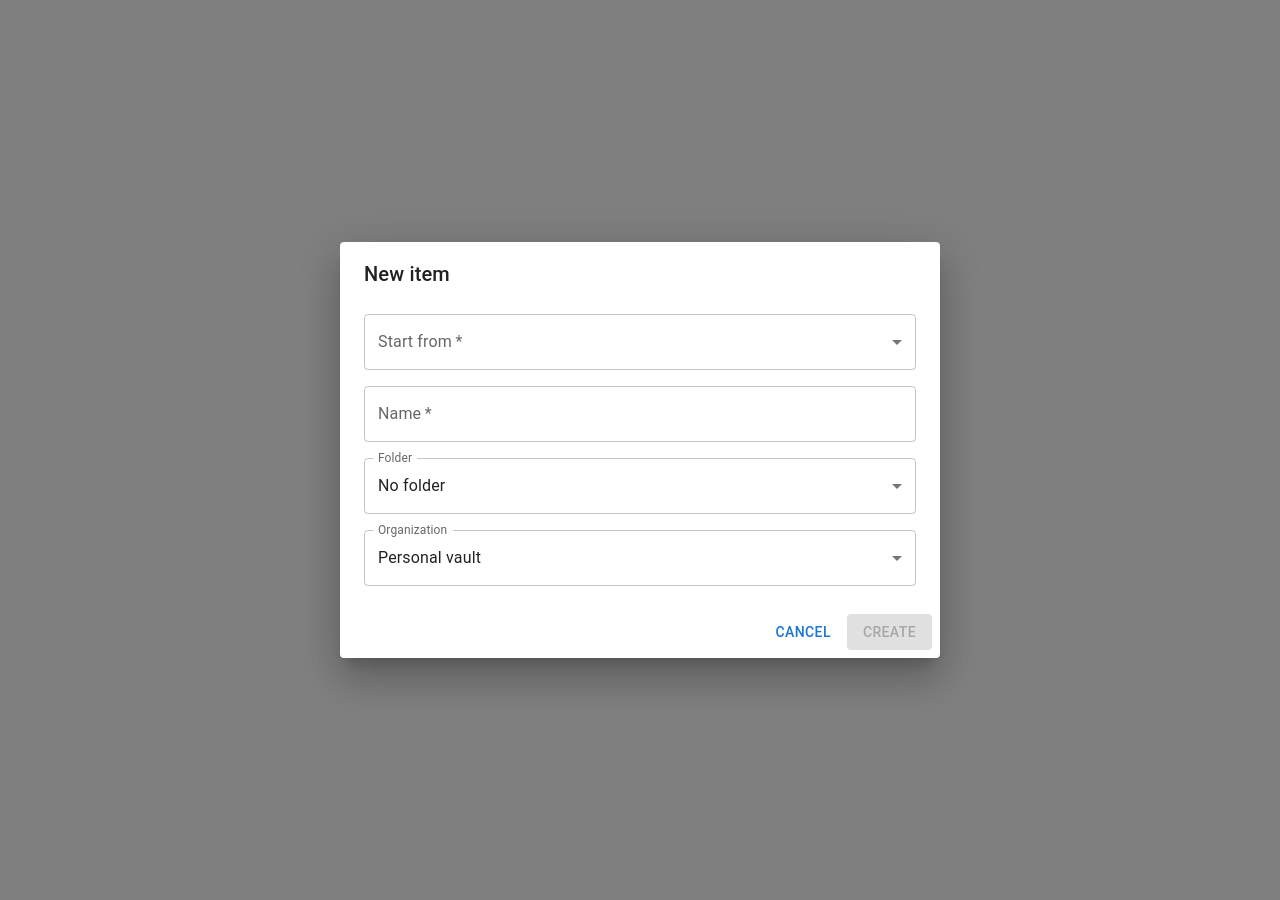
Test: an organization no row uses is offered with its collections
The width and height of the screenshot is (1280, 900).
Press the mouse on the dropdown named "Organization" at (430, 558), box [378, 548, 481, 567]
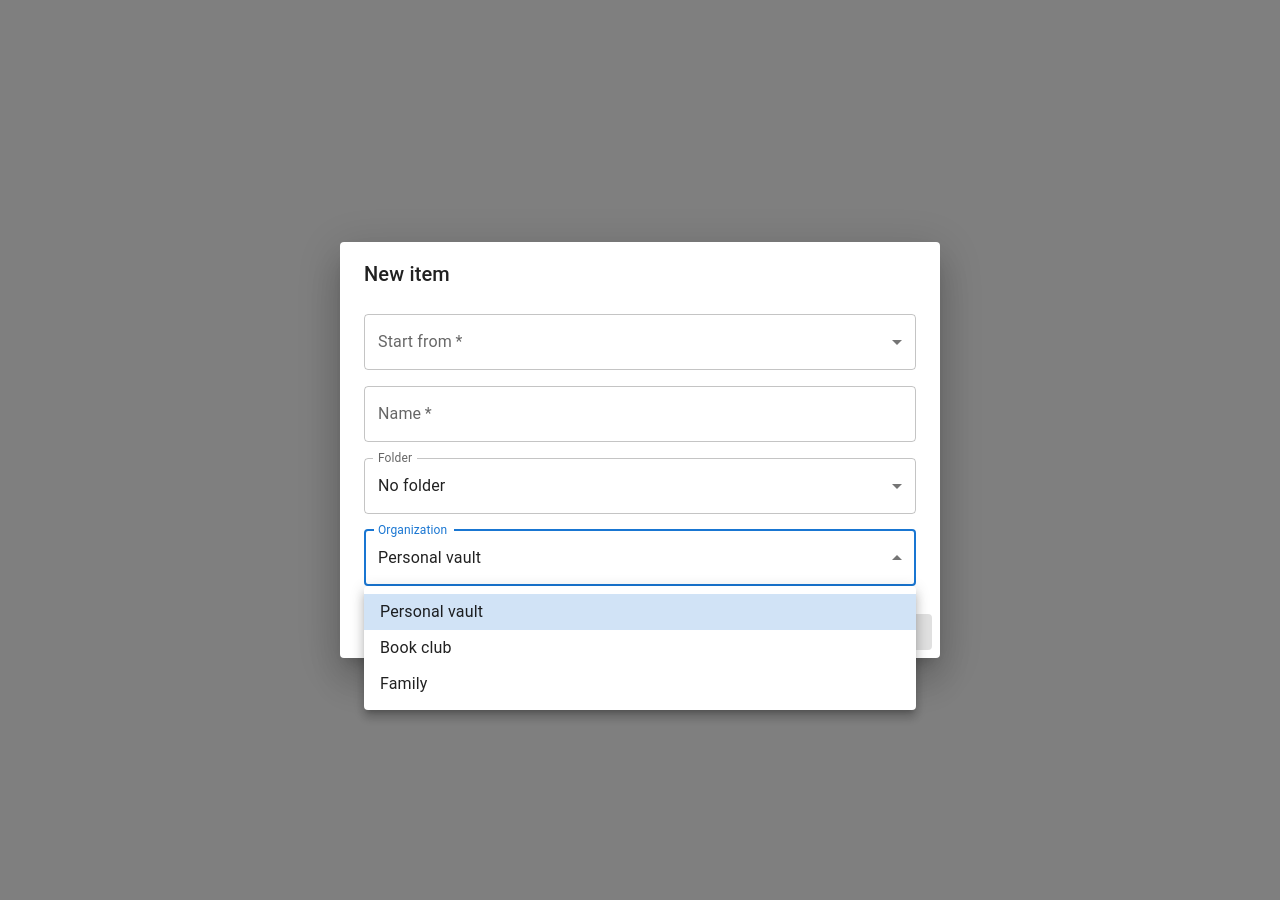
Click the option "Book club" at (416, 648), box [380, 638, 452, 657]
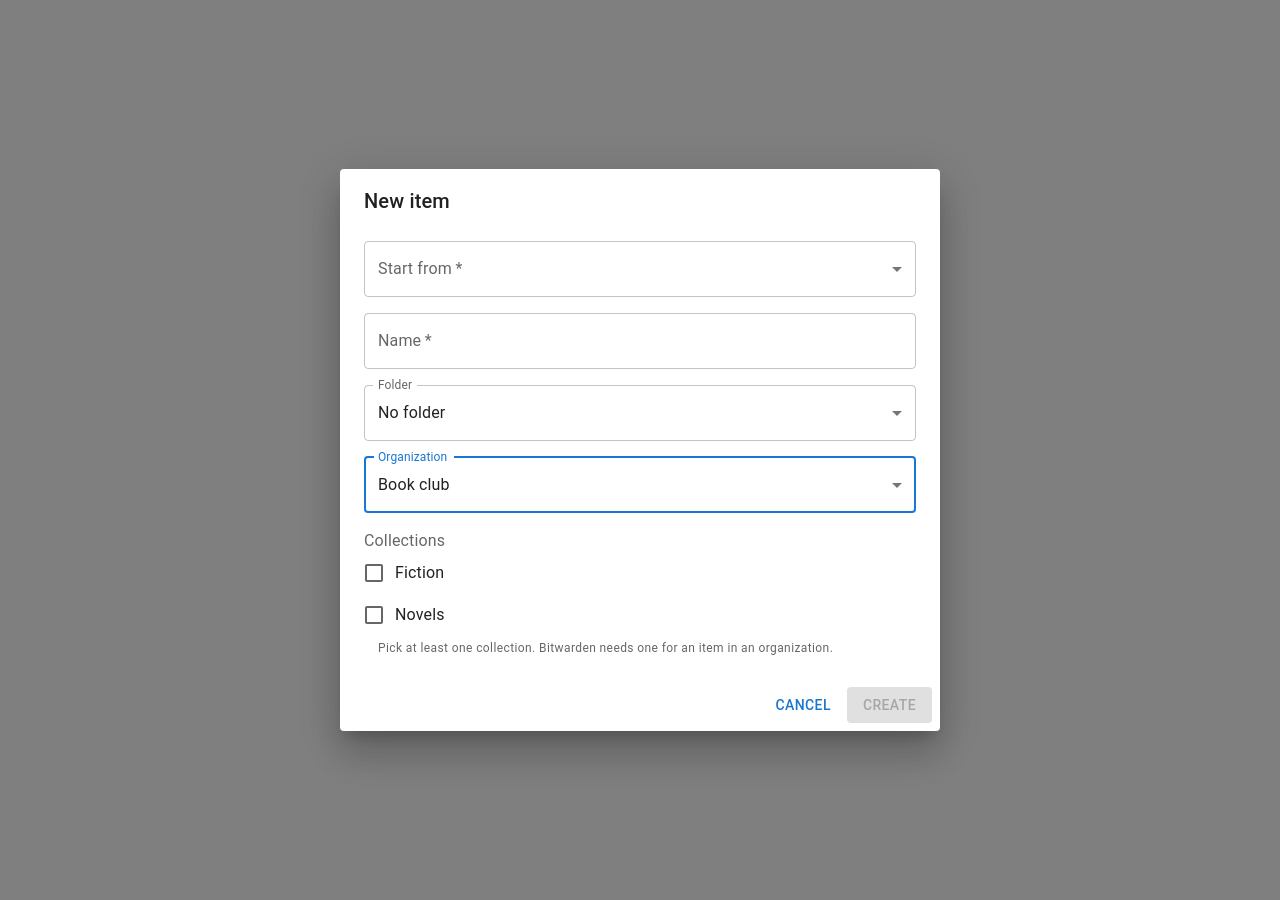
expect the checkbox labelled "Fiction" is shown: met, box [362, 561, 444, 585]
expect the checkbox labelled "Novels" is shown: met, box [362, 603, 445, 627]
